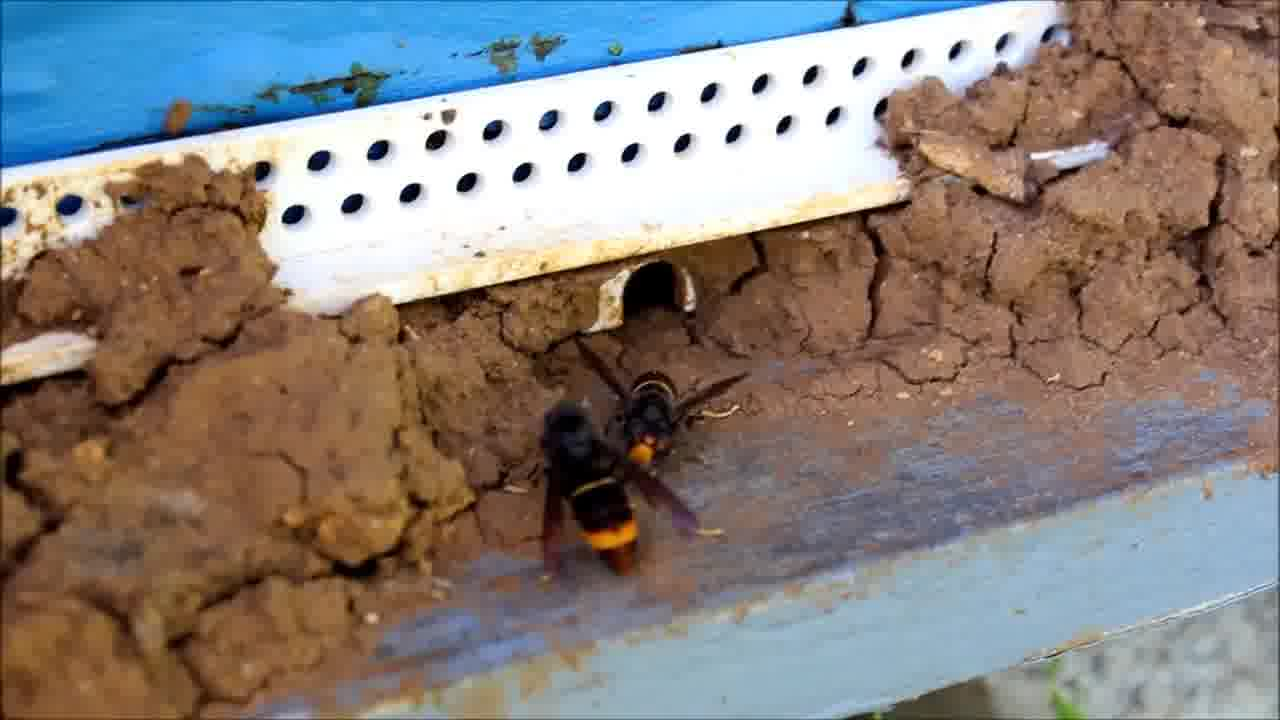hornet: (515, 393, 716, 593), (600, 363, 715, 483)
